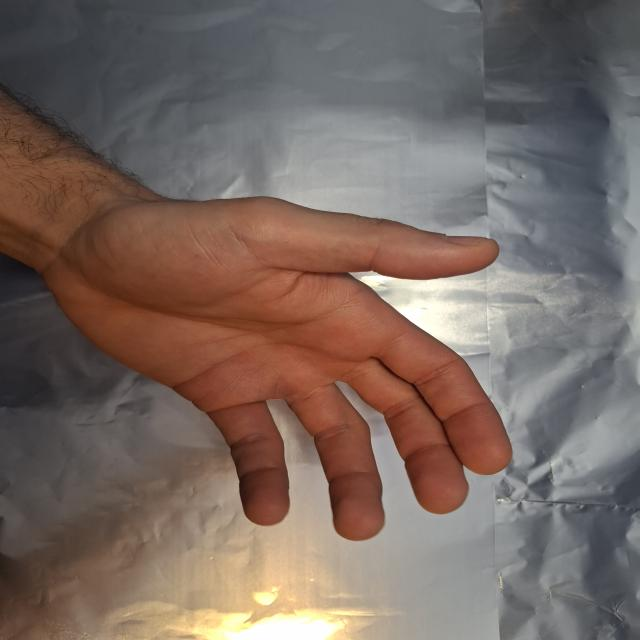glove_off: (30, 165, 518, 544)
